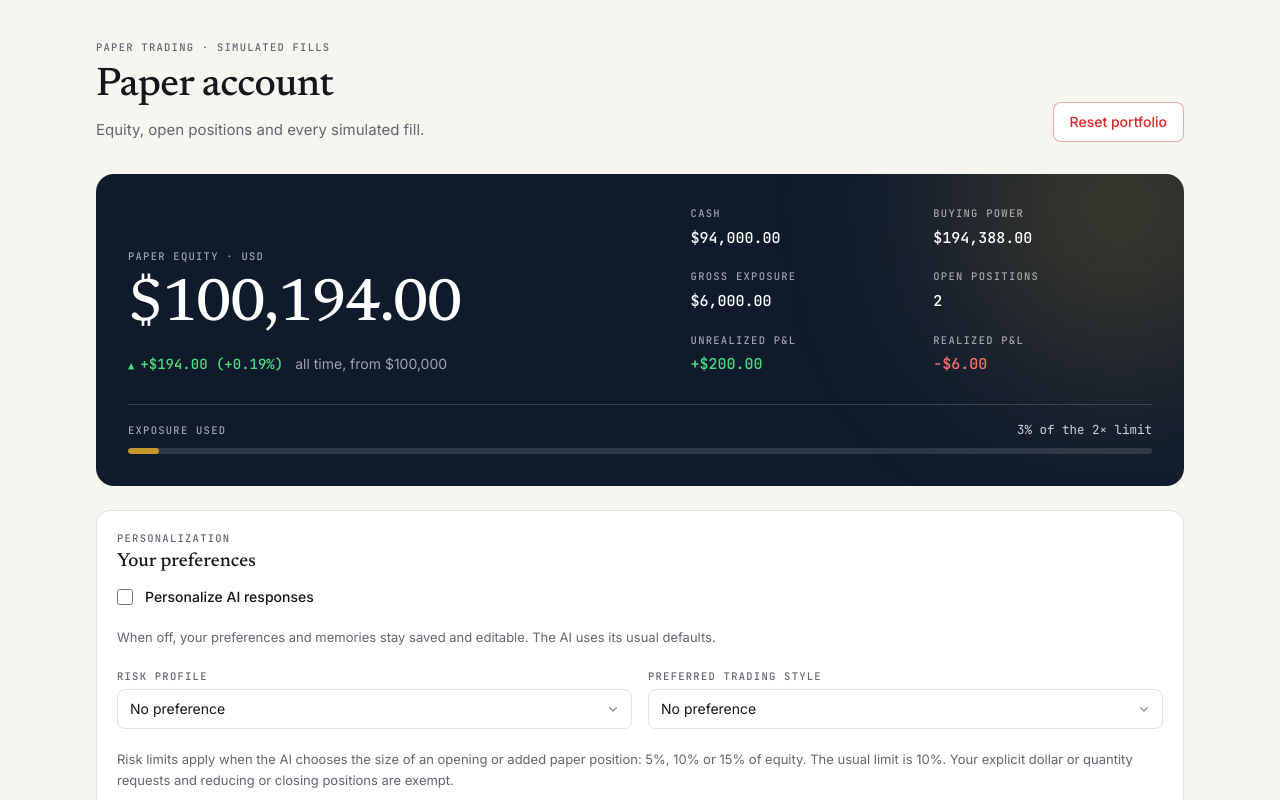
AccountPage › toasts a failed reset and keeps the dialog open
What coordinates should you click on to do the following:
click the button "Reset portfolio"
I would click on:
 (1118, 122)
Its box is [1053,102,1184,142].
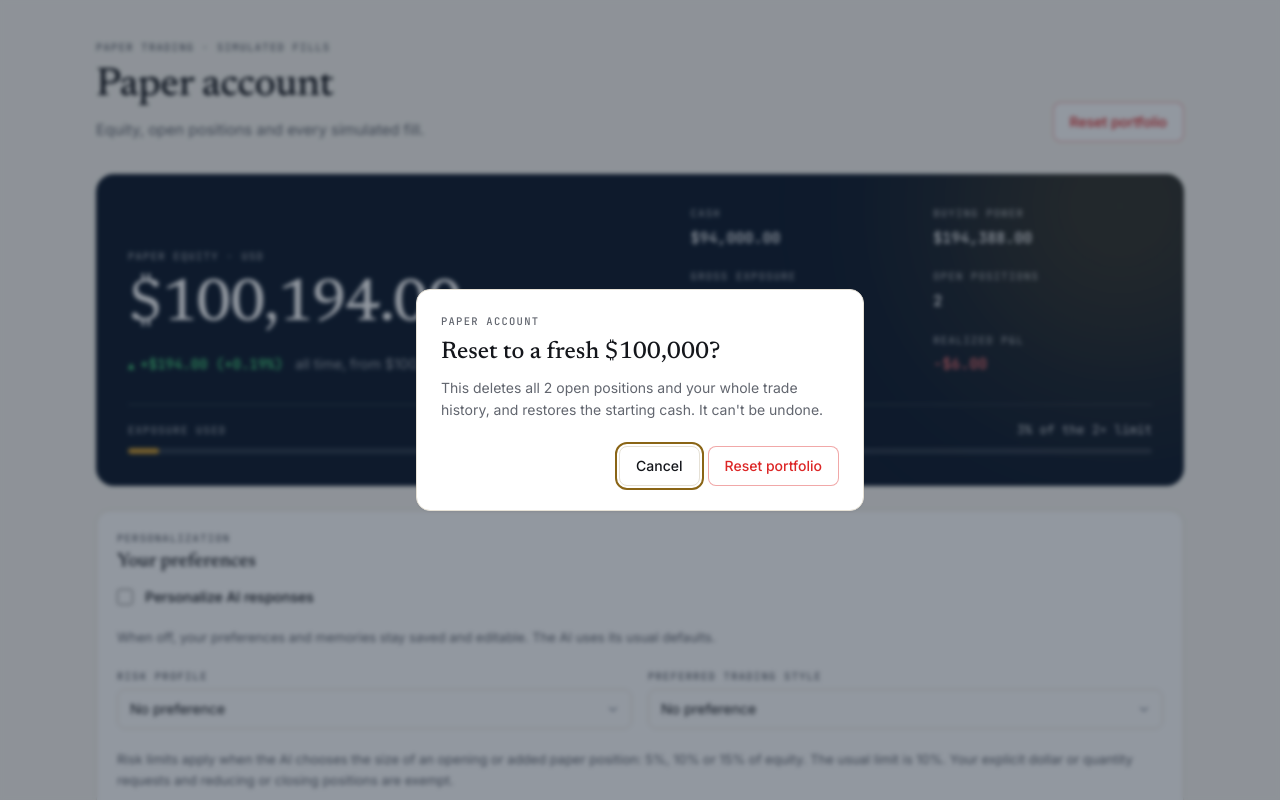
Check: the dialog "Reset to a fresh" shows "This deletes all 2 open positions and your whole trade history", box [416,289,864,511]
What coordinates should you click on to do the following:
click the button "Reset portfolio"
I would click on:
 (773, 466)
Its box is [708,446,839,486].
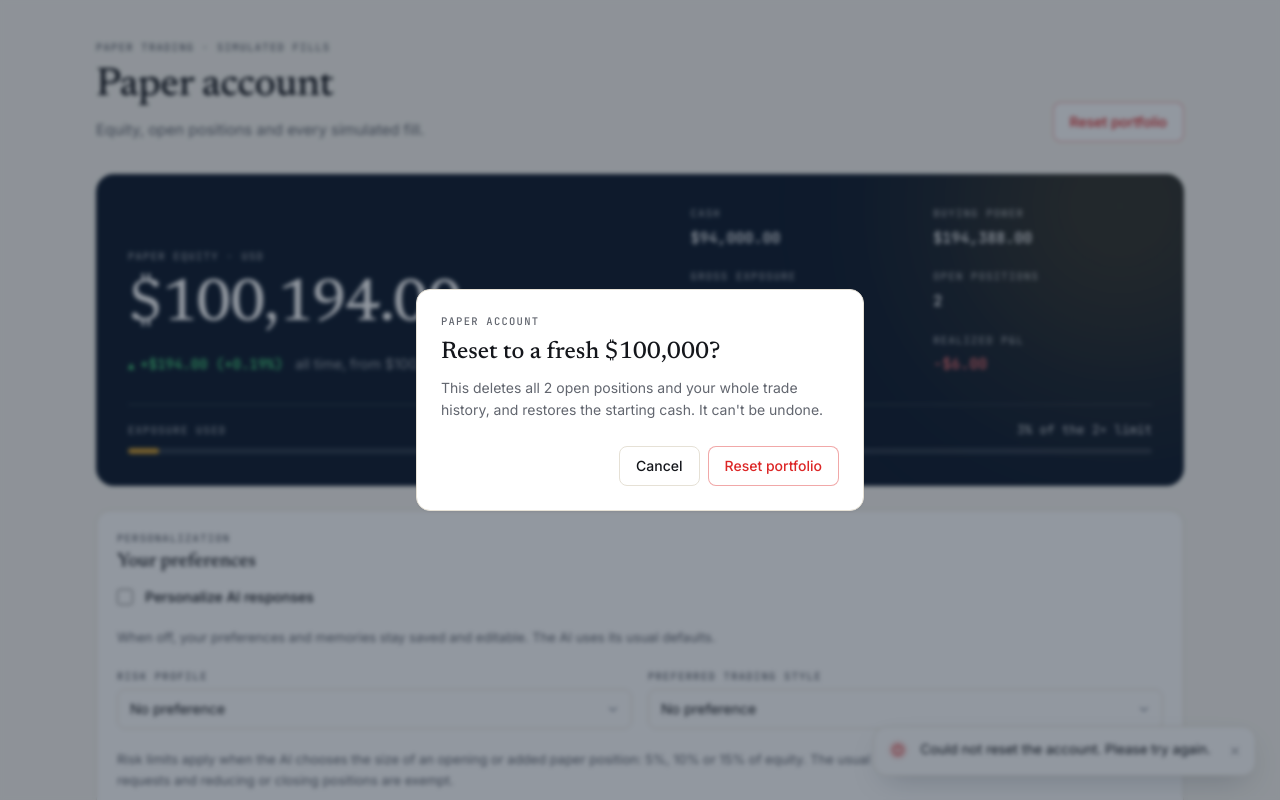
Check: the button "Reset portfolio" is enabled, box [708,446,839,486]
Check: the message reads "Could not reset the account. Please try again.", box [920,741,1211,757]
